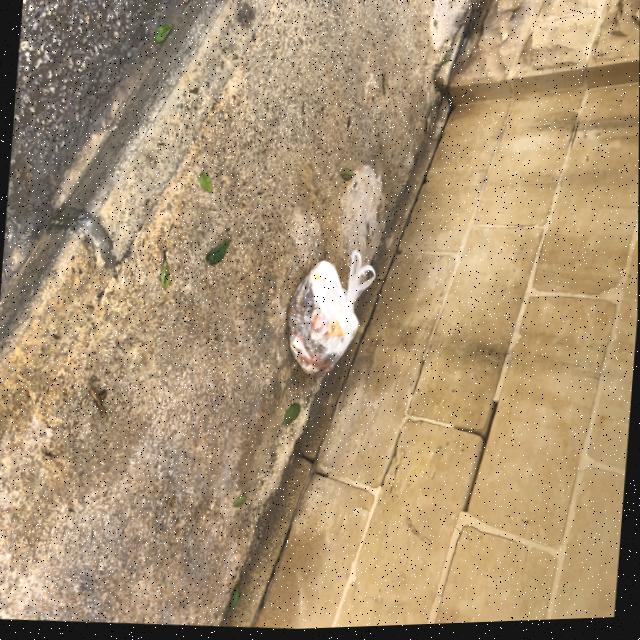Organic Waste -White Bag-: (282, 249, 377, 384)
